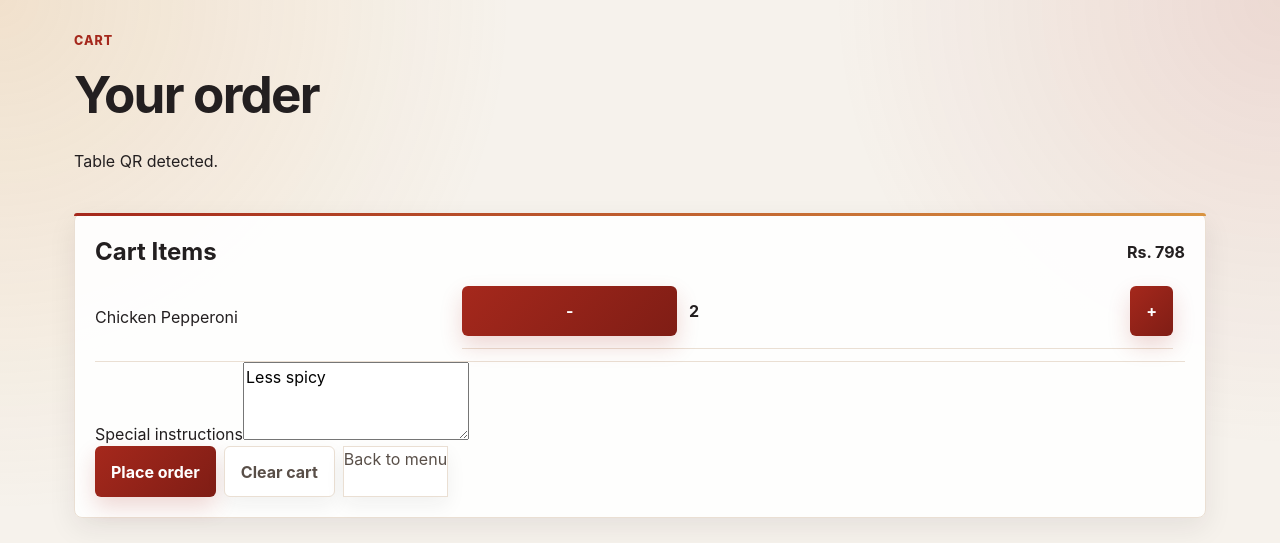
Scenario: PublicCartPage › loads server cart items and updates quantities
Expected: the heading "Your order" is shown, x1=74 y1=63 x2=319 y2=125
Expected: the text "Chicken Pepperoni" is shown, x1=95 y1=307 x2=238 y2=327
Click the button named "Remove one Chicken Pepperoni": [570, 311] box x1=462 y1=286 x2=677 y2=336
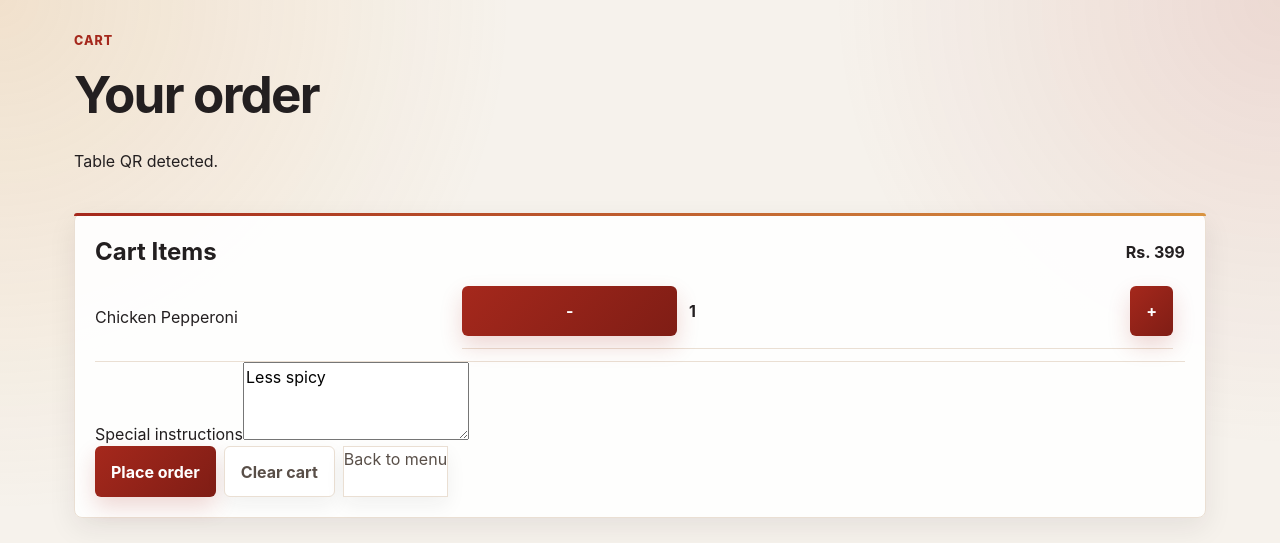
Result: the text "Rs. 399" is shown at x1=1126 y1=240 x2=1185 y2=264
